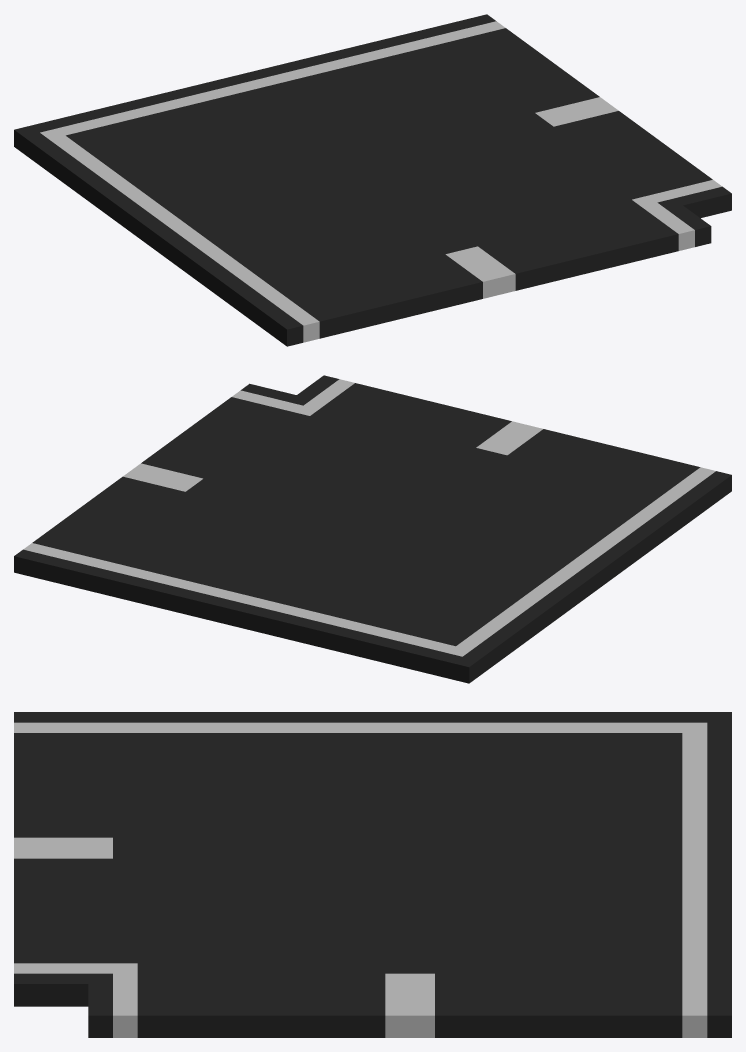
The model's file is road-edgy-curve-3.gltf.
3 views of the same model, one above another, from view 1: azimuth 30°, elevation 25°; view 2: azimuth 150°, elevation 25°; view 3: azimuth 270°, elevation 25° (orthographic). The views are drawn at different scales.
Parts seen in each view (by area): view 1: road-edgy-curve-3_model; view 2: road-edgy-curve-3_model; view 3: road-edgy-curve-3_model.
Boxes of the visible parts, bbox=[...] form: road-edgy-curve-3_model: bbox=[14, 14, 731, 346]; road-edgy-curve-3_model: bbox=[14, 375, 731, 683]; road-edgy-curve-3_model: bbox=[14, 712, 731, 1037].
Bounding box in the file's own units: 2.9 × 0.1 × 2.9.
Materials: 1 (1 with a texture image).
